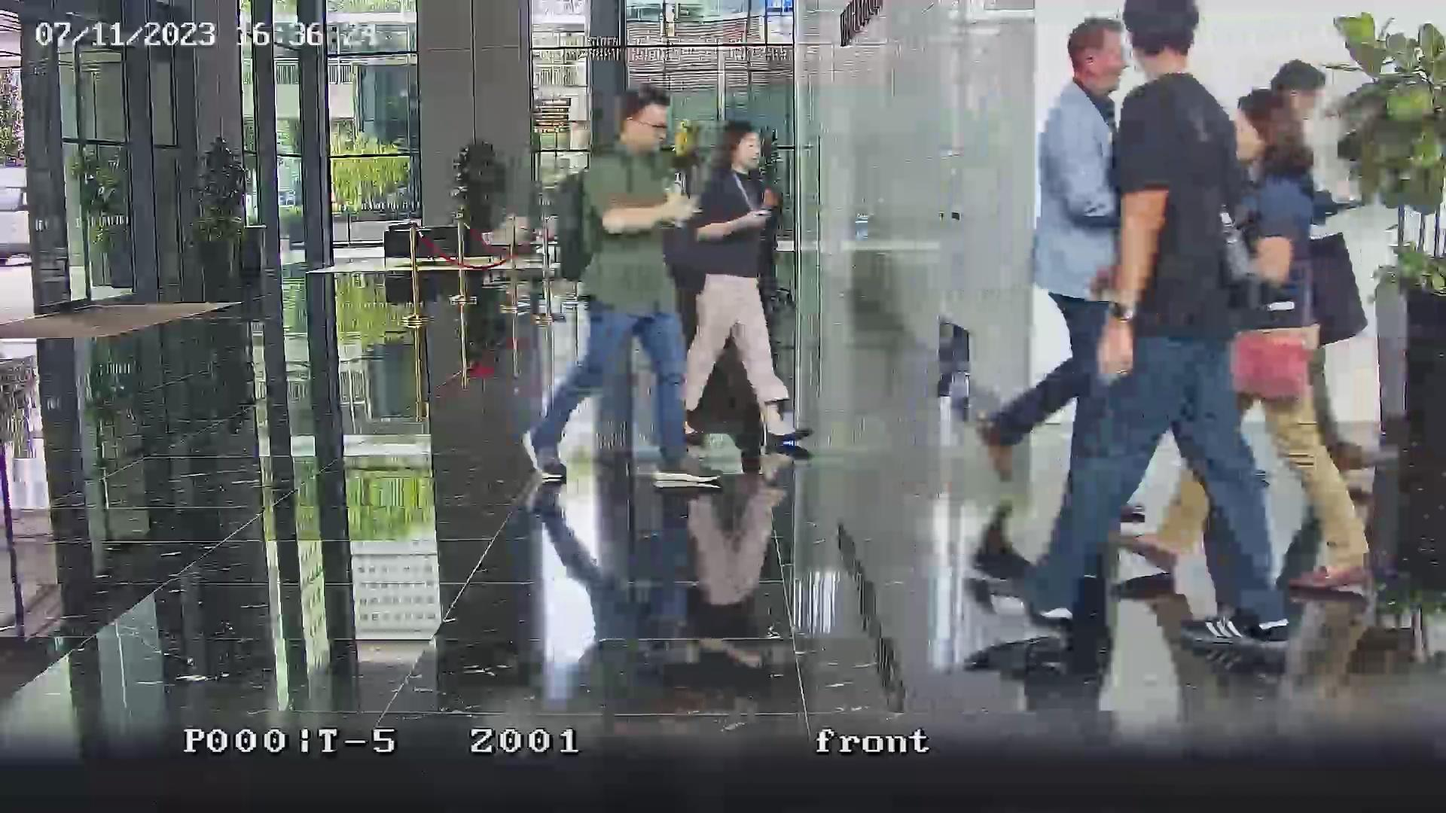person: (1104, 3, 1288, 650), (1228, 58, 1374, 598), (523, 83, 709, 484), (978, 14, 1133, 464), (680, 117, 810, 463)
